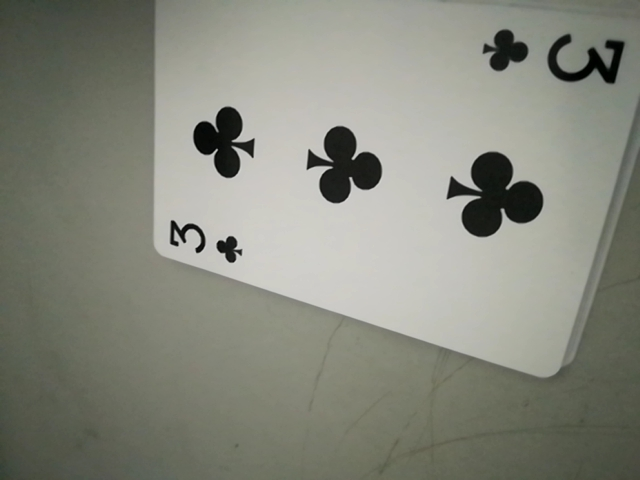mh 3: (479, 20, 625, 93), (161, 215, 252, 268)
